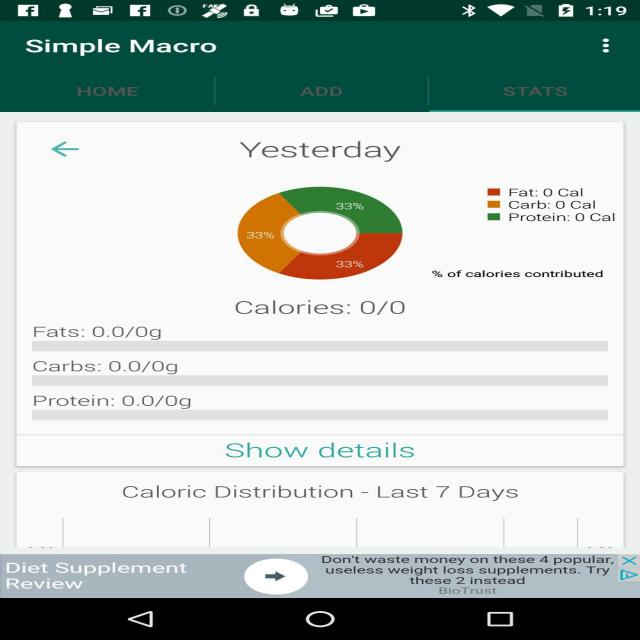button: (35, 431, 640, 469), (7, 73, 218, 112), (223, 77, 427, 113), (438, 79, 640, 114)
icon: (230, 556, 324, 597), (47, 139, 101, 170), (575, 37, 627, 57)
image: (212, 178, 404, 281), (473, 188, 504, 225)
text: (103, 482, 528, 508), (206, 435, 421, 466), (226, 136, 413, 170), (500, 182, 619, 231), (28, 34, 242, 60), (221, 297, 432, 317), (28, 312, 159, 344), (28, 355, 206, 378), (35, 391, 211, 414), (430, 262, 602, 285), (492, 87, 574, 105), (74, 82, 151, 101), (278, 86, 341, 102)
